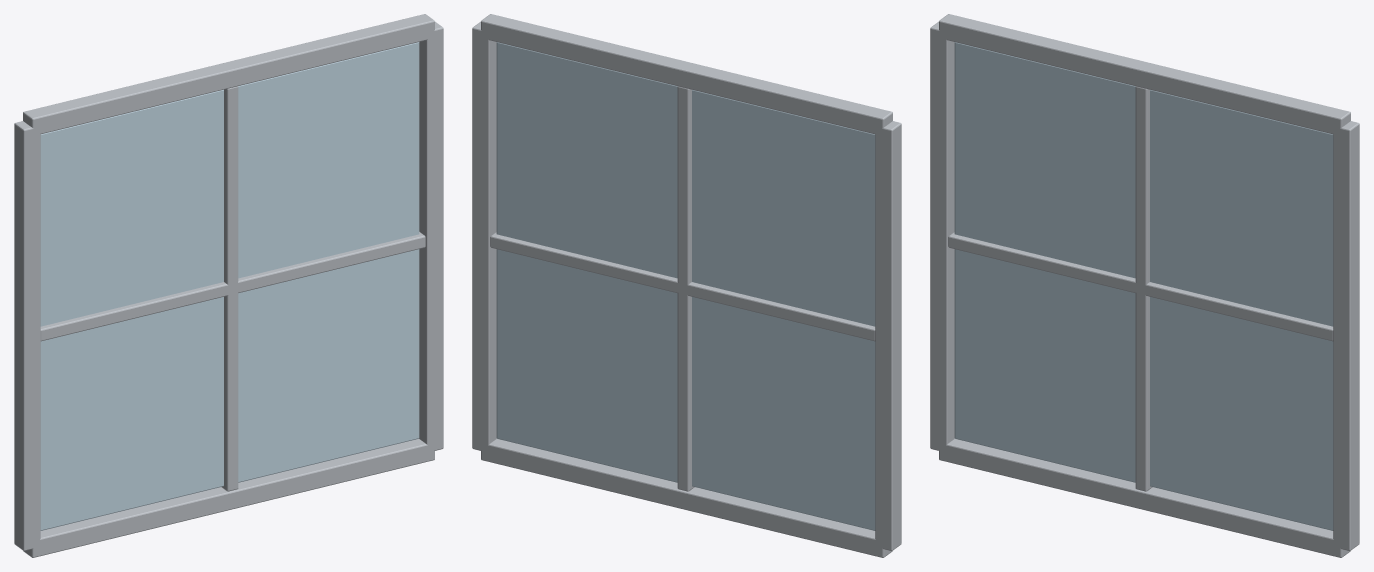
The model's file is classroom_window.glb.
3 renders of one model, left to right at view 1: azimuth 30°, elevation 25°; view 2: azimuth 150°, elevation 25°; view 3: azimuth 330°, elevation 25°, orthographic.
Visible parts, largest first — view 1: win_glass, win_frame_l, win_frame_t, win_frame_r, win_frame_b, win_mullion_v, win_mullion_h; view 2: win_glass, win_frame_l, win_frame_t, win_frame_r, win_frame_b, win_mullion_v, win_mullion_h; view 3: win_glass, win_frame_r, win_frame_t, win_frame_l, win_frame_b, win_mullion_v, win_mullion_h.
Part boxes in pixels (left/top/right/bottom): win_glass: left=40, top=42, right=419, bottom=530; win_frame_l: left=14, top=121, right=40, bottom=550; win_frame_t: left=23, top=14, right=434, bottom=135; win_frame_r: left=419, top=21, right=443, bottom=451; win_frame_b: left=23, top=439, right=434, bottom=557; win_mullion_v: left=221, top=86, right=238, bottom=491; win_mullion_h: left=40, top=232, right=425, bottom=341; win_glass: left=496, top=42, right=875, bottom=530; win_frame_l: left=875, top=121, right=901, bottom=550; win_frame_t: left=481, top=14, right=892, bottom=134; win_frame_r: left=472, top=21, right=496, bottom=451; win_frame_b: left=481, top=439, right=892, bottom=557; win_mullion_v: left=677, top=86, right=694, bottom=491; win_mullion_h: left=490, top=232, right=875, bottom=341; win_glass: left=954, top=42, right=1333, bottom=530; win_frame_r: left=1333, top=121, right=1359, bottom=550; win_frame_t: left=939, top=14, right=1350, bottom=135; win_frame_l: left=930, top=21, right=954, bottom=451; win_frame_b: left=939, top=439, right=1350, bottom=557; win_mullion_v: left=1135, top=86, right=1152, bottom=491; win_mullion_h: left=948, top=232, right=1333, bottom=341.
Size of the model in its own units: 1.46 by 1.46 by 0.06.
